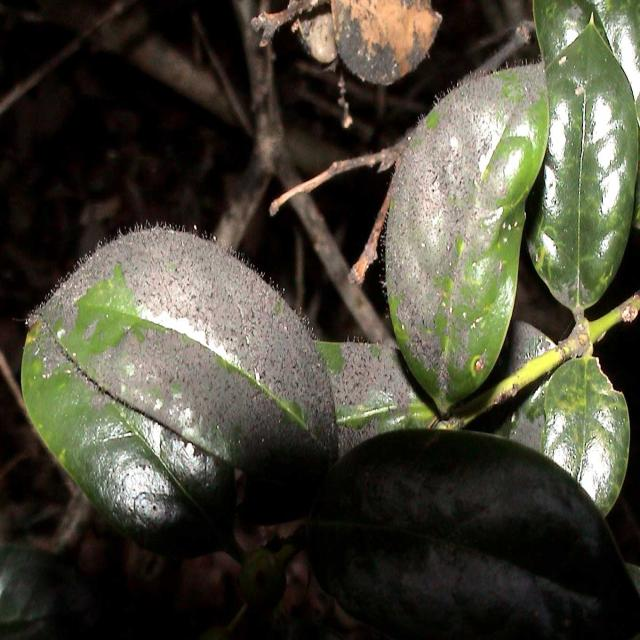Sooty Mold: (20, 220, 340, 552), (306, 426, 638, 638)
